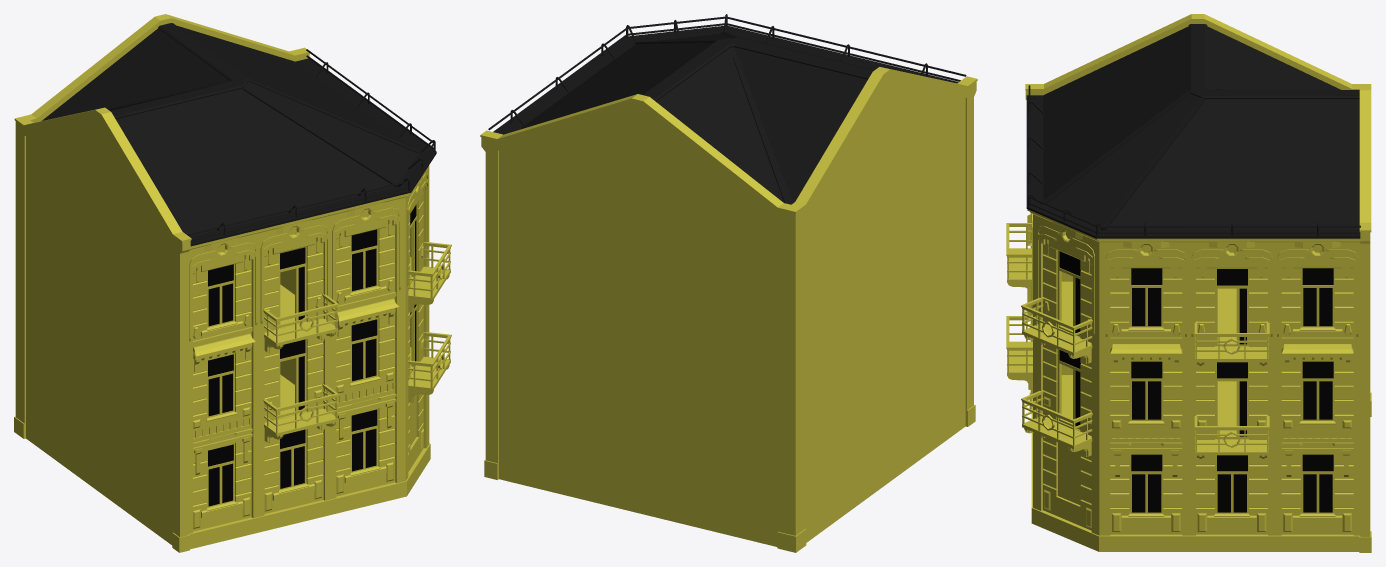
Rendered from SM_eighth_house_1.fbx.
The picture shows the model from 3 angles, left to right: view 1: azimuth 30°, elevation 25°; view 2: azimuth 150°, elevation 25°; view 3: azimuth 270°, elevation 25°; orthographic projection. The views are drawn at different scales.
Parts seen in each view (by area): view 1: Cylinder_5; view 2: Cylinder_5; view 3: Cylinder_5.
Boxes of the visible parts, x1,y1,x2,y2 form: Cylinder_5: (14,14,451,552); Cylinder_5: (480,14,977,552); Cylinder_5: (1006,14,1371,552).
Bounding box in the file's own units: 1066 × 1270 × 1066.
